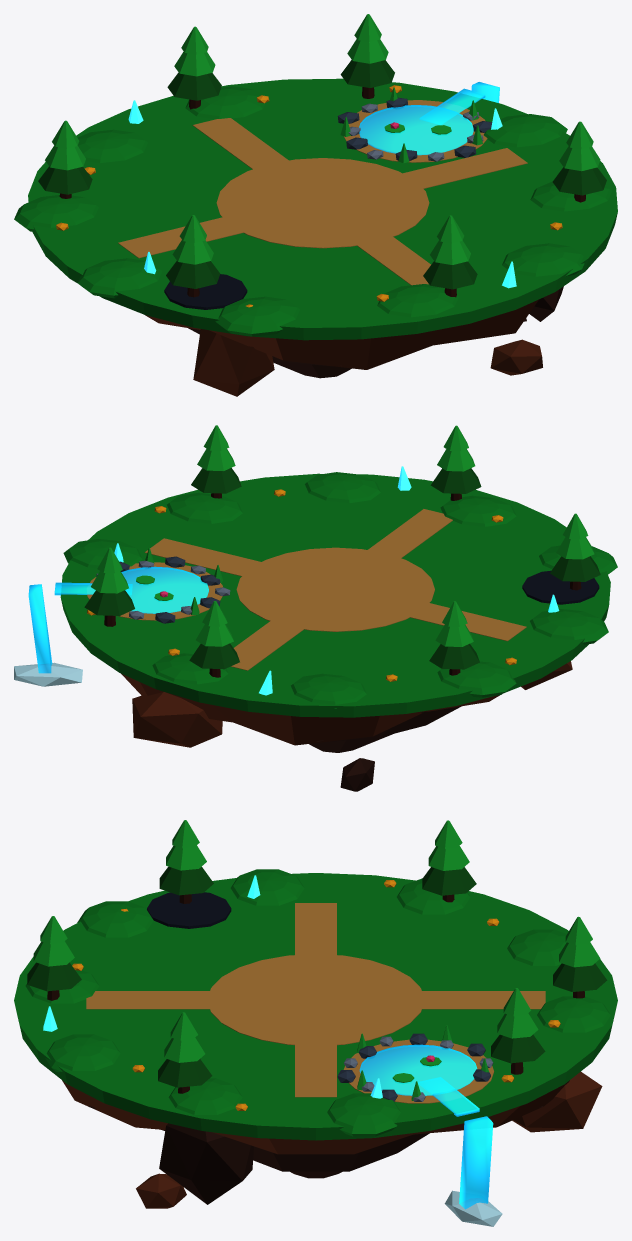
The model's file is earth_island.glb.
3 views of the same model, one above another, from view 1: azimuth 30°, elevation 25°; view 2: azimuth 150°, elevation 25°; view 3: azimuth 270°, elevation 25° (orthographic). The views are drawn at different scales.
Parts seen in each view (by area): view 1: EarthIslandTerrain, OasisWaterPond; view 2: EarthIslandTerrain, OasisWaterPond; view 3: EarthIslandTerrain, OasisWaterPond.
Boxes of the visible parts, box(x1,y1,x2,y2) form: EarthIslandTerrain: box(14, 14, 617, 396); OasisWaterPond: box(359, 82, 499, 155); EarthIslandTerrain: box(14, 425, 617, 791); OasisWaterPond: box(28, 566, 208, 673); EarthIslandTerrain: box(14, 820, 617, 1226); OasisWaterPond: box(359, 1044, 493, 1209).
Bounding box in the file's own units: 2.06 × 0.915 × 2.
